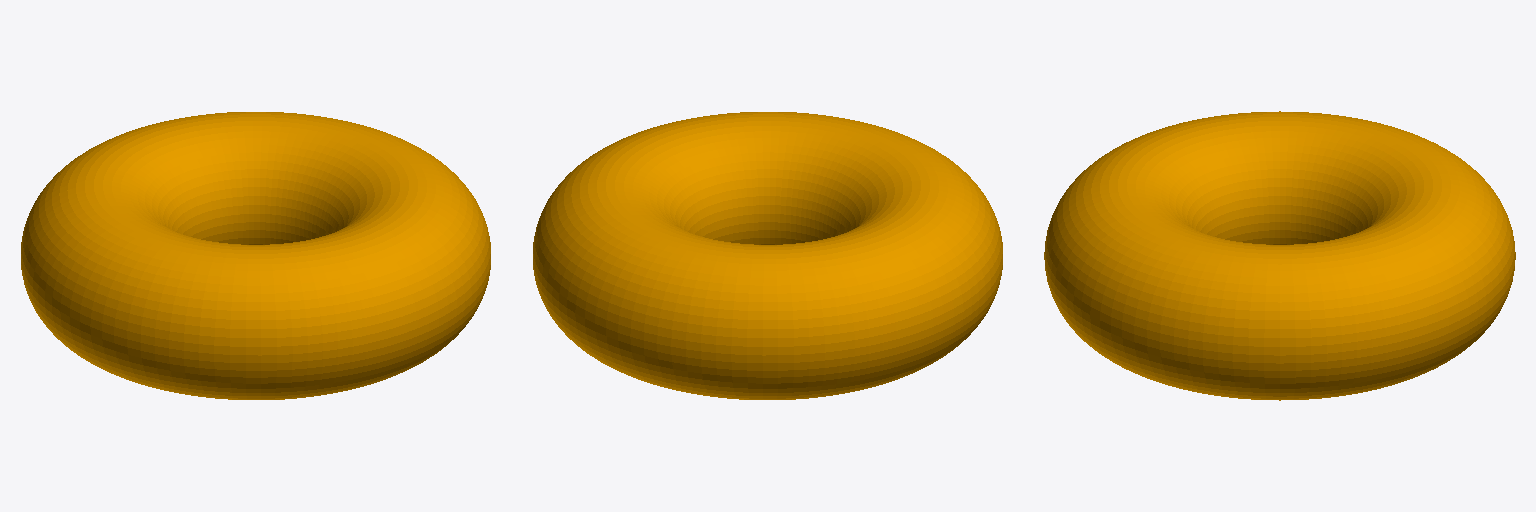
URDF robot description (torus_medium):
<?xml version="1.0"?>
<robot name="torus_medium">
  <link name="base_link">
    <inertial>
      <mass value="0.1" />
      <origin xyz="0 0 0" />
      <inertia  ixx="0.0002" ixy="0.0"  ixz="0.0"  iyy="0.0002"  iyz="0.0" izz="0.0002" />
    </inertial>
    <visual>
      <geometry>
        <mesh filename="../../meshes/contactdb/torus_medium.stl" scale="0.001 0.001 0.001" />
      </geometry>
    </visual>
    <collision>
      <geometry>
        <mesh filename="../../meshes/contactdb/torus_medium.stl" scale="0.001 0.001 0.001" />
      </geometry>
    </collision>
  </link>
</robot>

--- Facts derived from the render (not from the file) ---
The picture shows the robot from 3 angles, left to right: view 1: azimuth 30°, elevation 25°; view 2: azimuth 150°, elevation 25°; view 3: azimuth 270°, elevation 25°; orthographic projection.
Model torus_medium with 1 links and 0 joints (none), rooted at base_link, posed every joint at zero.
Links seen in each view (by area): view 1: base_link; view 2: base_link; view 3: base_link.
Boxes of the visible links, x1=… form: base_link: x1=21, y1=112, x2=490, y2=399; base_link: x1=533, y1=112, x2=1002, y2=399; base_link: x1=1044, y1=111, x2=1515, y2=400.
Size in the robot's own frame: 0.0804 by 0.0804 by 0.0265 metres.
Meshes: 1 distinct files referenced, 1 mesh visuals loaded (1 binary STL).